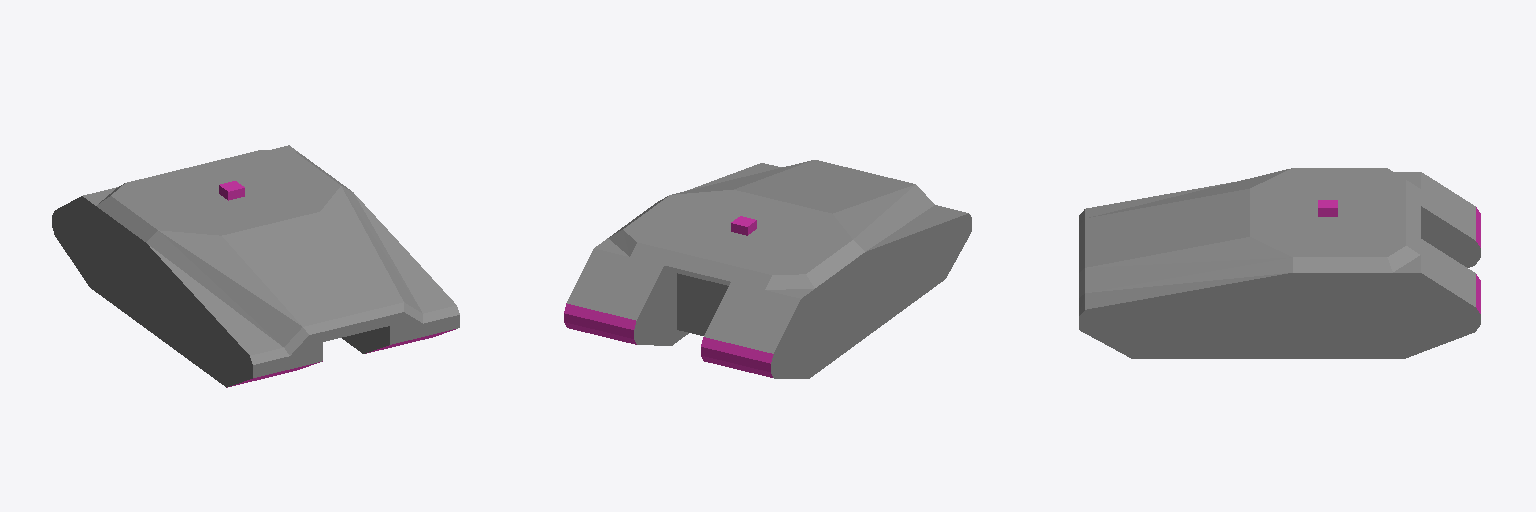
The picture shows the model from 3 angles: view 1: azimuth 30°, elevation 25°; view 2: azimuth 150°, elevation 25°; view 3: azimuth 270°, elevation 25°; orthographic projection.
Visible parts, largest first — view 1: hull; view 2: hull; view 3: hull.
Boxes of the visible parts, <box> form: hull: <box>52,145,459,387</box>; hull: <box>564,160,971,378</box>; hull: <box>1079,168,1480,358</box>.
Bounding box in the file's own units: 3.7 × 1.78 × 6.22.